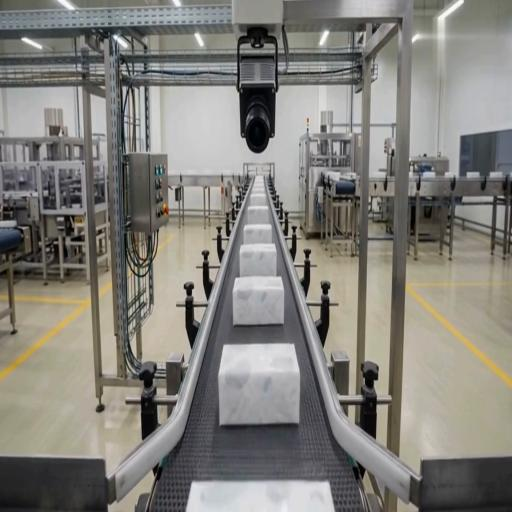good: (214, 340, 302, 436), (187, 477, 336, 511), (231, 276, 286, 328), (238, 242, 278, 278), (243, 223, 273, 245), (244, 204, 270, 226), (248, 191, 268, 207), (250, 176, 266, 188)
